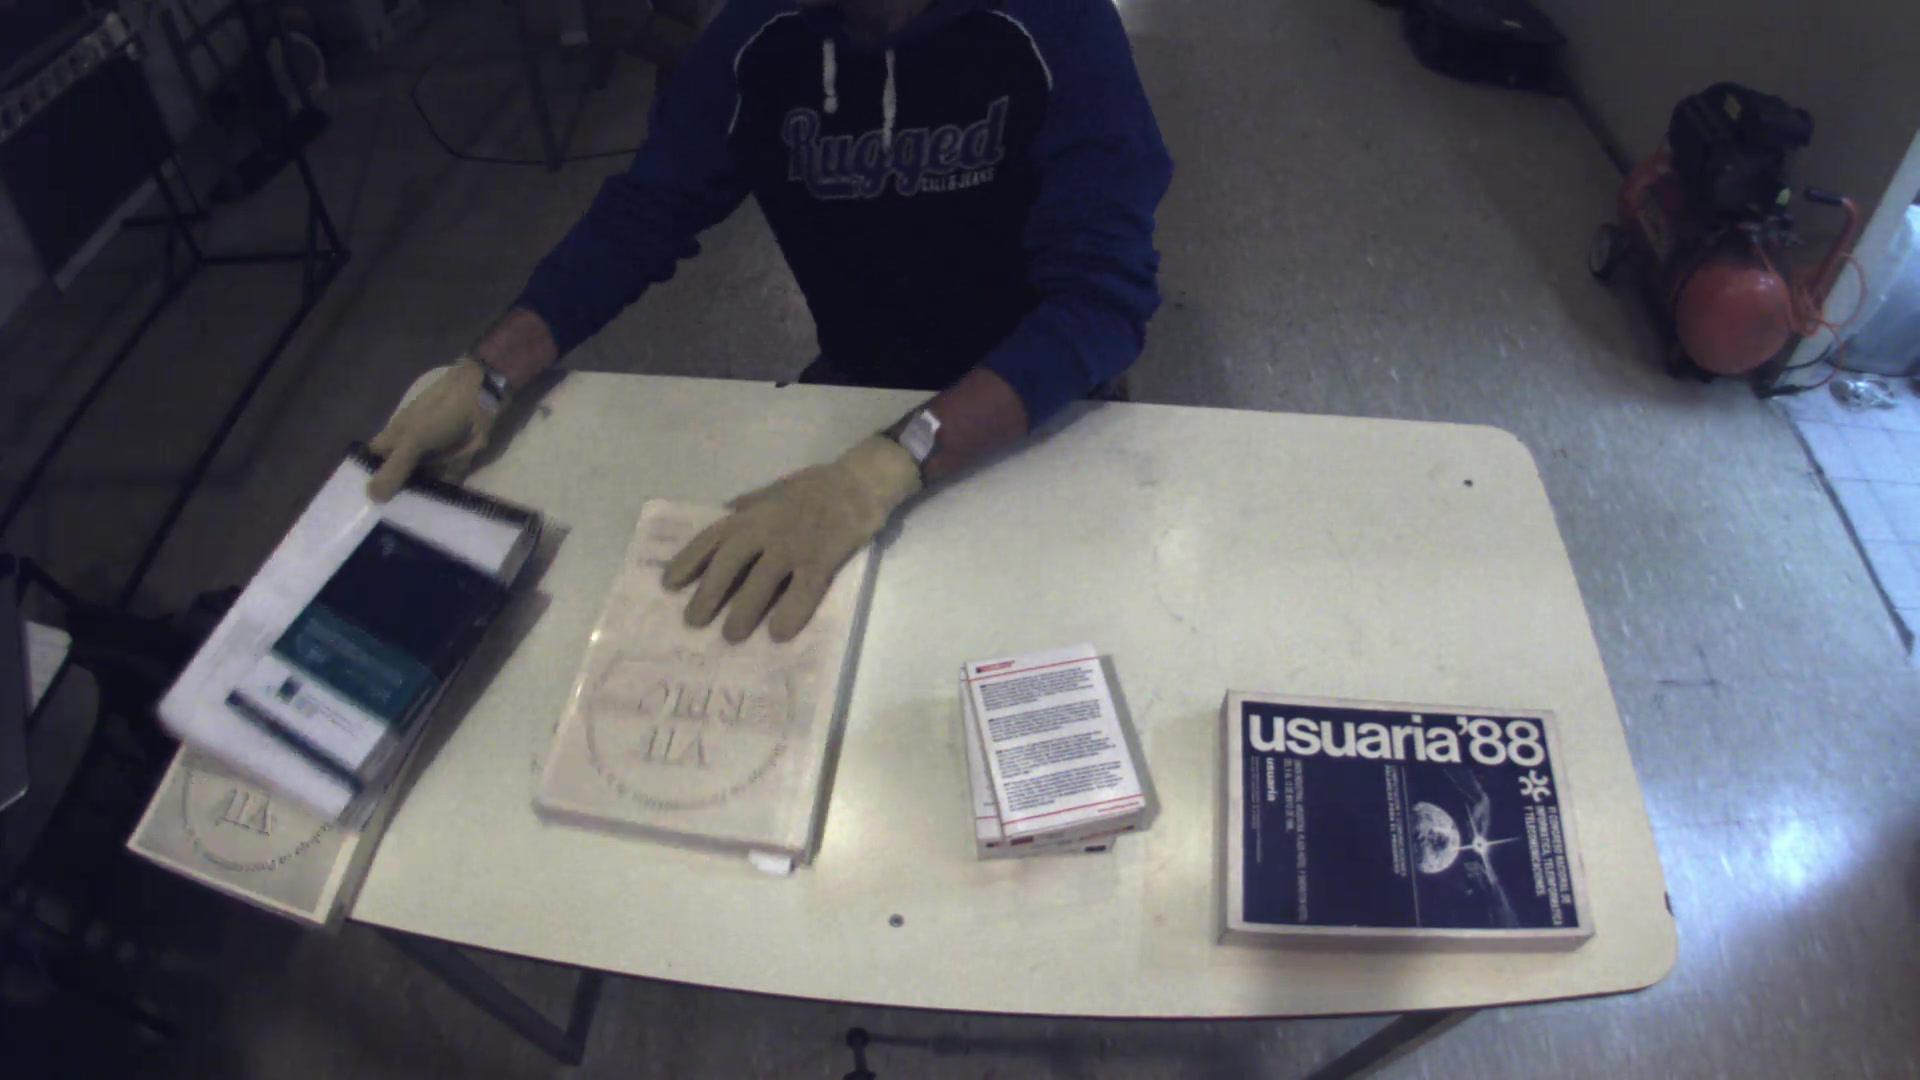hand: (649, 430, 926, 651), (349, 347, 495, 506)
